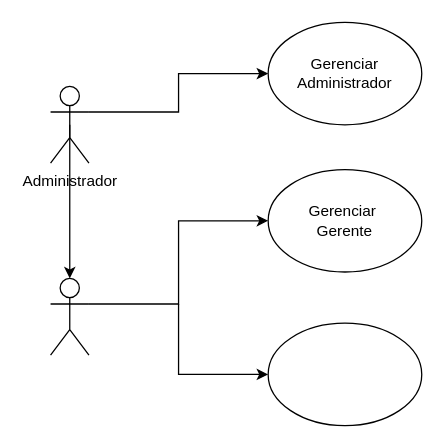
Image size: 444x448. Some labels were removed from this diagram. Here are the shapes that lost their labels. From the top down, the centre of each, then its label:
pixel 69 316: Gerente
pixel 344 374: Gerenciar Vendedor
